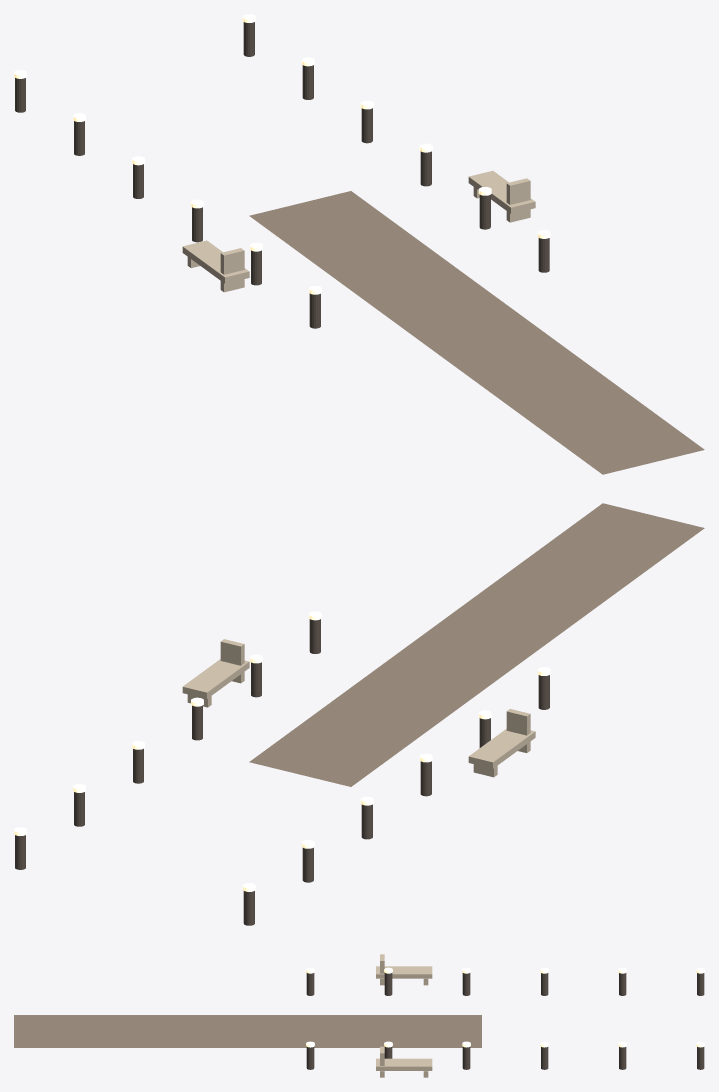
File: street-ground.glb
3 views of the same model, one above another, from view 1: azimuth 30°, elevation 25°; view 2: azimuth 150°, elevation 25°; view 3: azimuth 270°, elevation 25° (orthographic). The views are drawn at different scales.
Parts seen in each view (by area): view 1: CobblestonePath; view 2: CobblestonePath; view 3: CobblestonePath.
Boxes of the visible parts, x1=… form: CobblestonePath: x1=14, y1=14, x2=704, y2=474; CobblestonePath: x1=14, y1=503, x2=704, y2=925; CobblestonePath: x1=14, y1=954, x2=704, y2=1077.
Bounding box in the file's own units: 7.6 × 0.9749 × 22.14.
